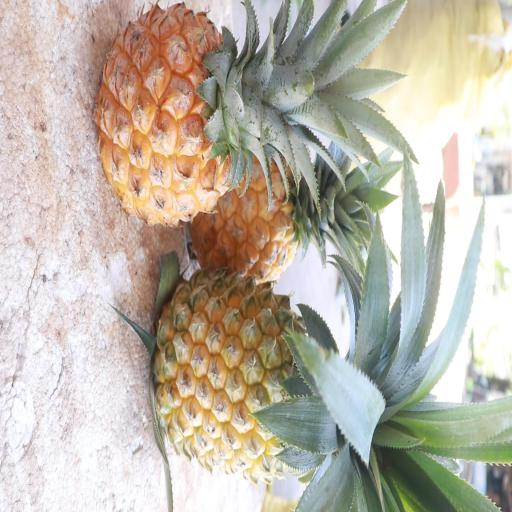Pineapple - v8 v1: (147, 263, 399, 480), (90, 1, 310, 229), (186, 130, 348, 284)
